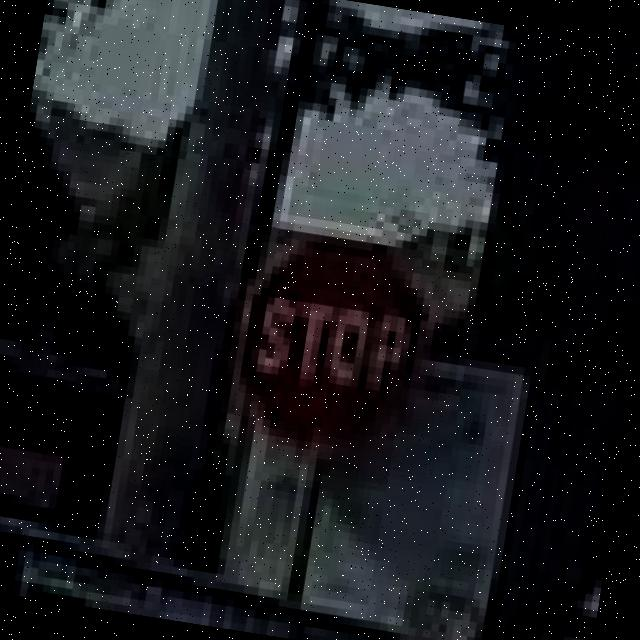Stop: (230, 226, 438, 472)
